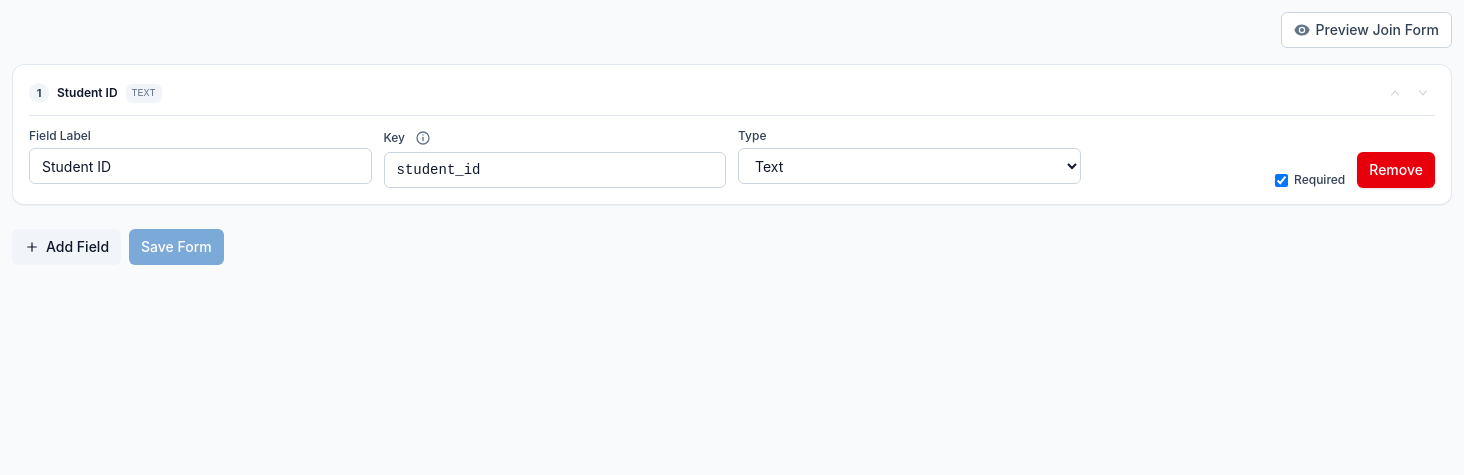
Scenario: FormBuilder — label and key stay in step (ADR-065) › cannot save an empty or duplicate key
Click the button "Add Field". click: (66, 247)
box: [12,229,121,265]
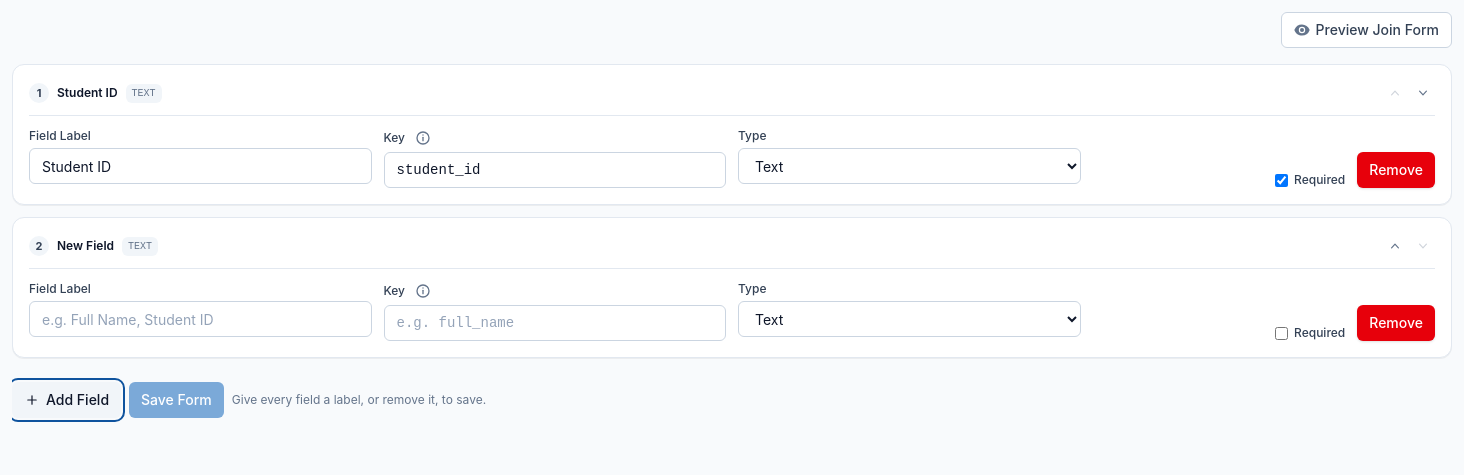
Type "Student ID" into the field with placeholder "e.g. Full Name, Student ID". click: (200, 319)
box: [29,301,372,337]
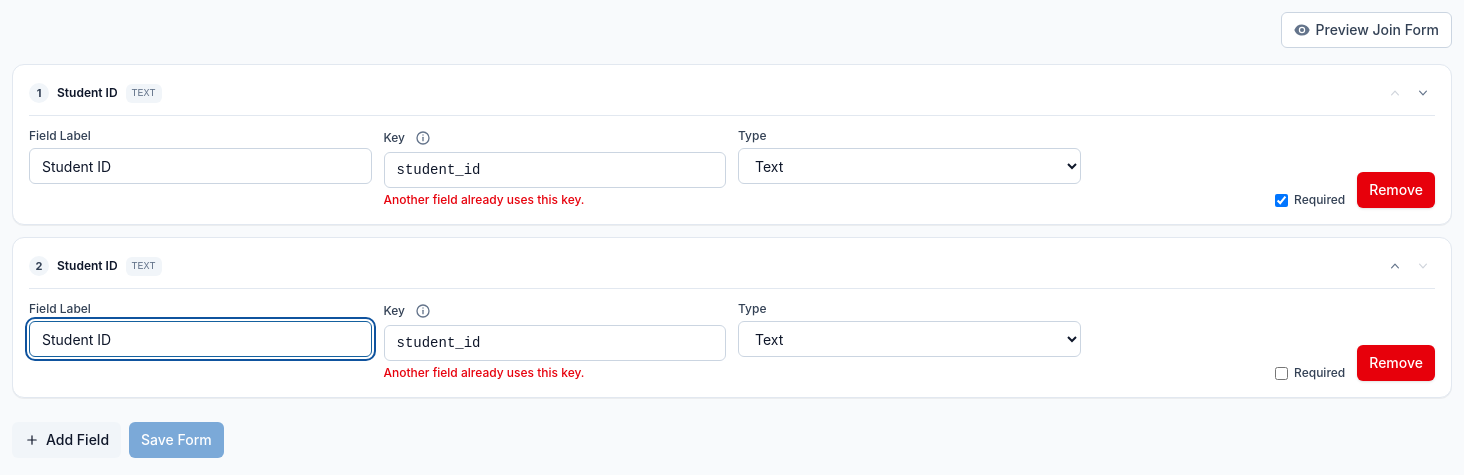
Expected: the button "Save Form" is disabled, [129,422,224,458]
Now the text "Another field already uses this key." is shown 2 times, box [384,192,584,207]; [384,365,584,380]
Clear the field named "Field 2 key". click: (555, 343)
box: [384,325,726,361]
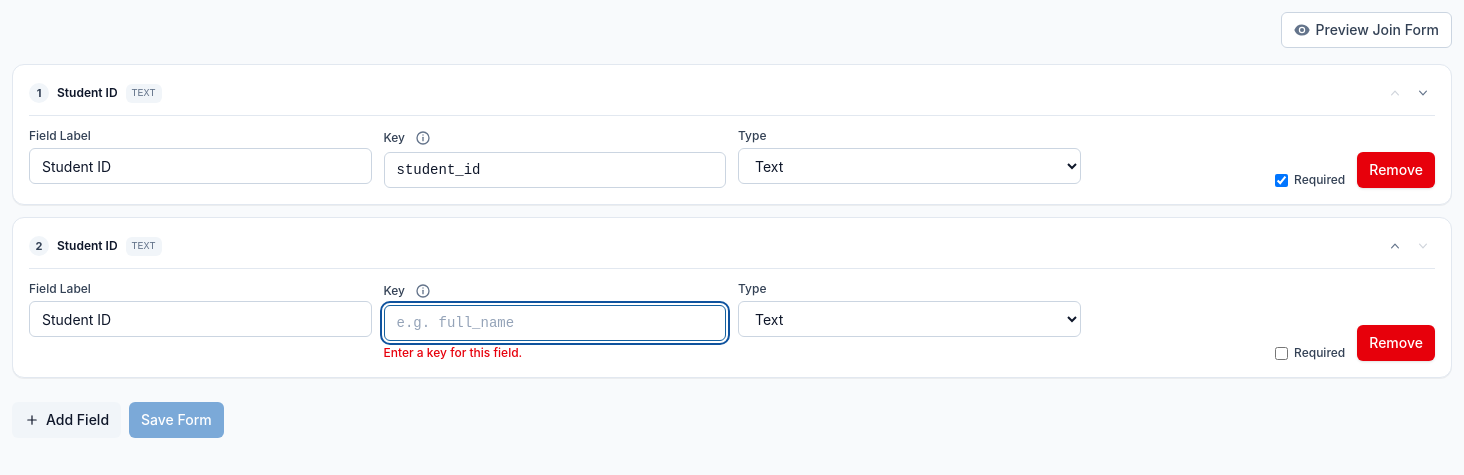
Expected: the button "Save Form" is disabled, [129,402,224,438]
Now the text "Enter a key for this field." is shown, box [384,345,522,360]
